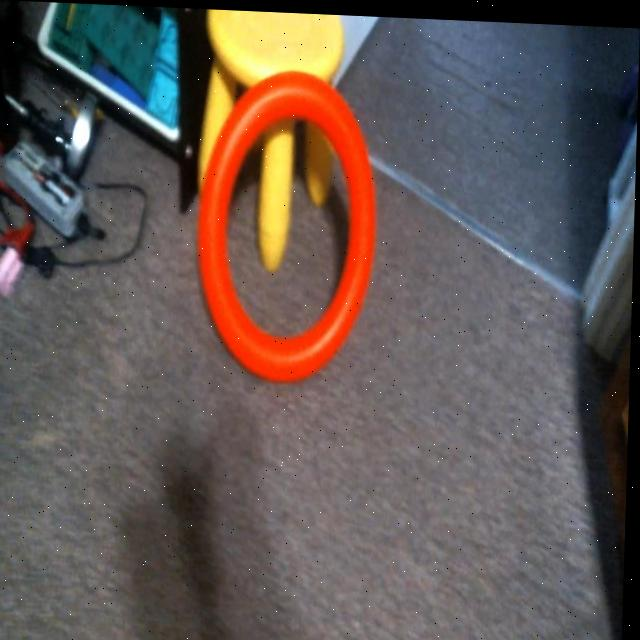note: (194, 62, 383, 389)
